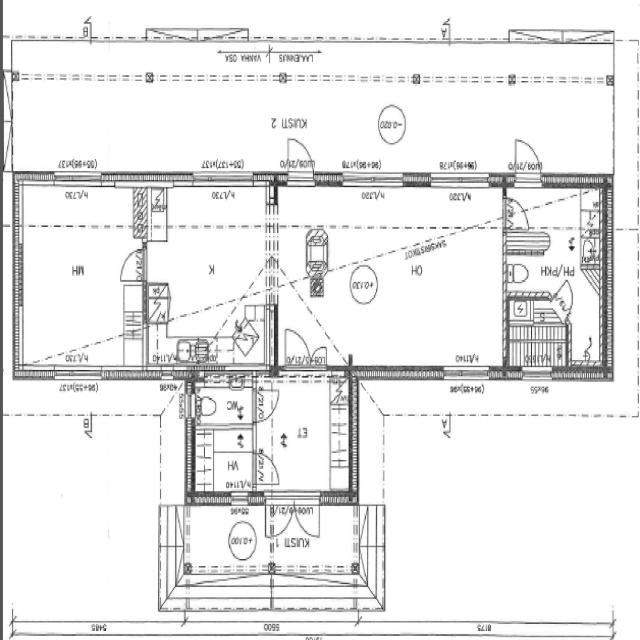door: (504, 150, 539, 229), (282, 134, 318, 187), (277, 323, 317, 370), (511, 135, 544, 185), (291, 490, 321, 541), (502, 195, 535, 238), (254, 374, 282, 424), (116, 245, 149, 286), (256, 453, 281, 493)
window: (49, 361, 105, 391), (189, 168, 259, 191), (338, 168, 406, 191), (428, 167, 492, 190), (438, 362, 493, 388), (518, 363, 557, 385)
zone: (273, 181, 506, 368), (10, 400, 186, 633), (15, 188, 147, 380), (145, 184, 273, 374), (502, 186, 607, 316), (255, 369, 352, 495), (192, 426, 258, 497), (508, 297, 566, 371), (192, 375, 256, 431)
